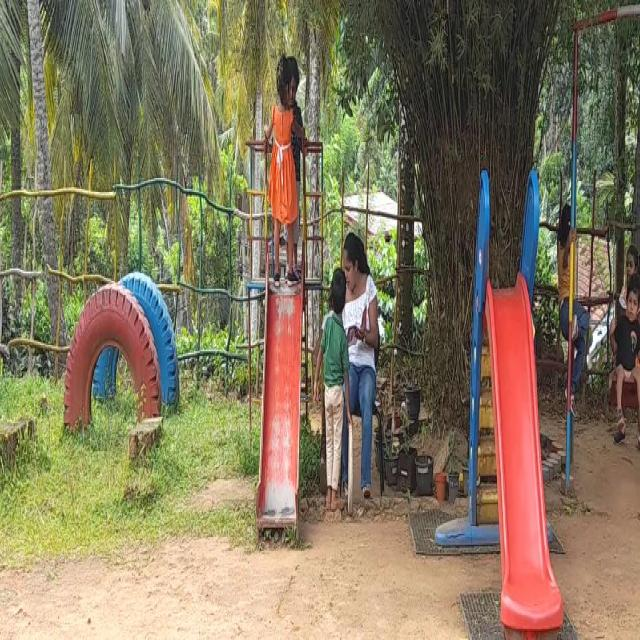adult: (341, 214, 382, 482)
child: (263, 44, 298, 270), (316, 259, 348, 501), (614, 250, 640, 434)
